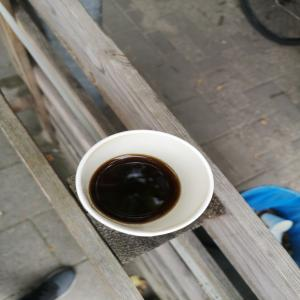Cup: (75, 130, 216, 238)
